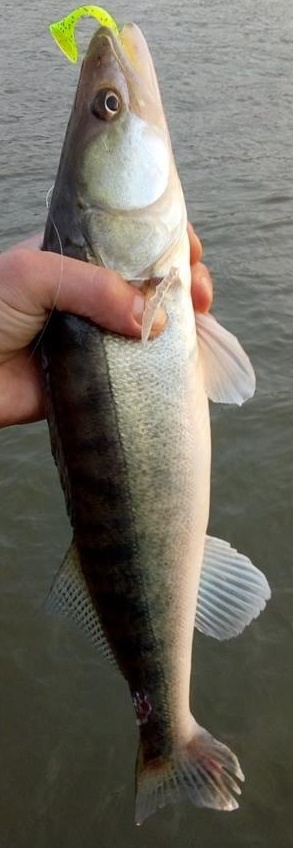Sander lucioperca: (20, 20, 273, 828)
